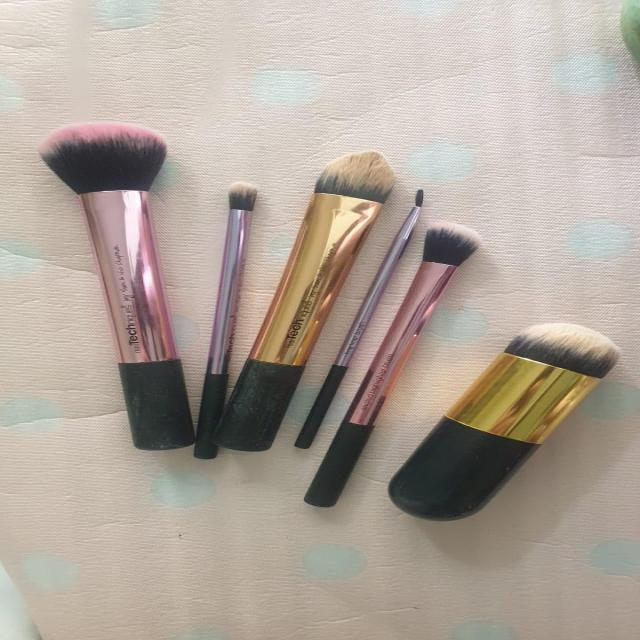brush: (11, 104, 640, 528)
